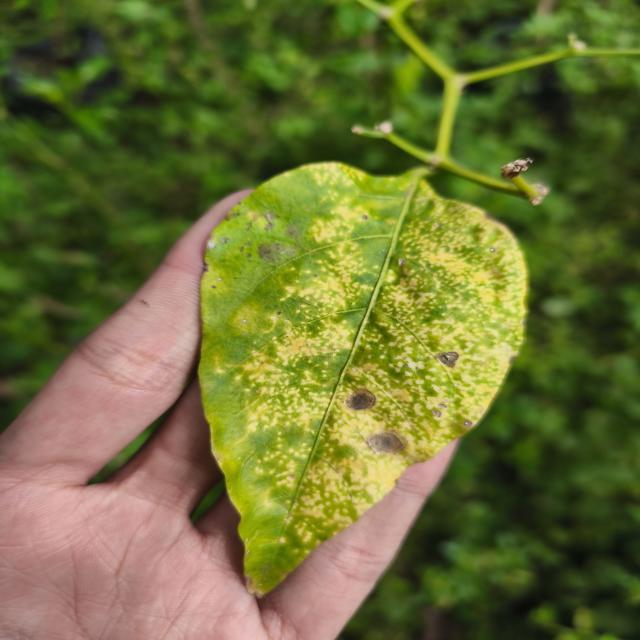Virus Kuning: (195, 160, 529, 598)
